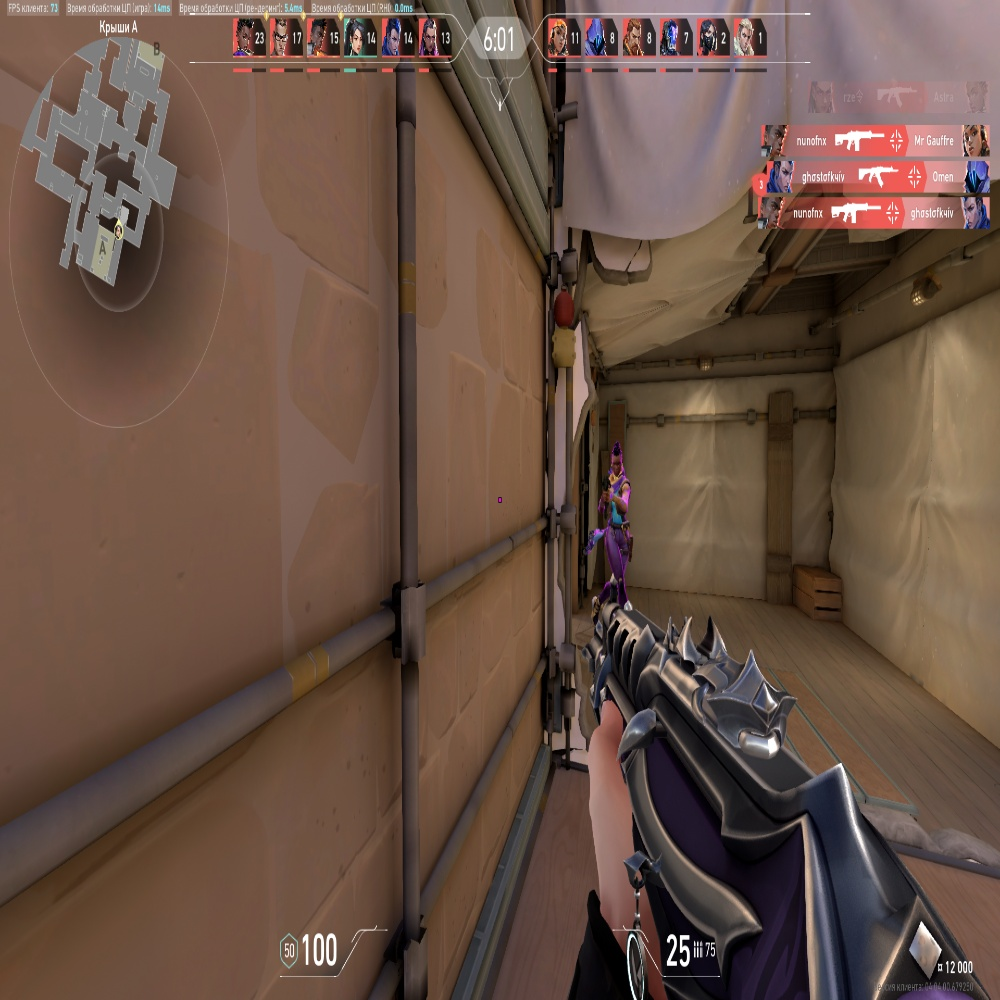body: (606, 480, 629, 528)
head: (610, 448, 623, 475)
